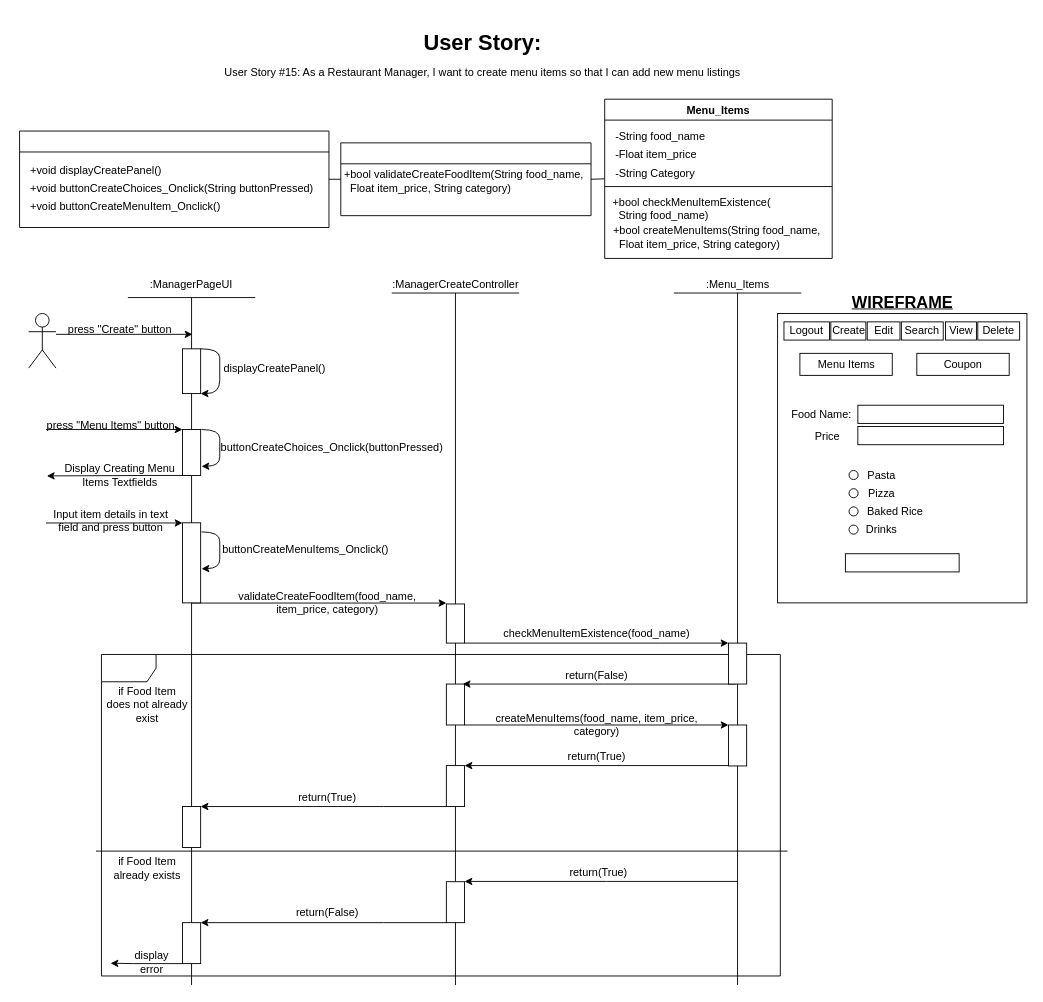
Some shapes in this 1043 by 1002 pixel diagram are drawn without their labels. Here are the shapes that lost their labels. From the top down, the box of each, then its label:
(19, 130, 329, 228): ManagerPageUI
(340, 142, 591, 216): ManagerCreateController
(28, 313, 56, 368): Restaurant Manager
(844, 553, 959, 572): Create Menu Item
(101, 654, 780, 976): alt
